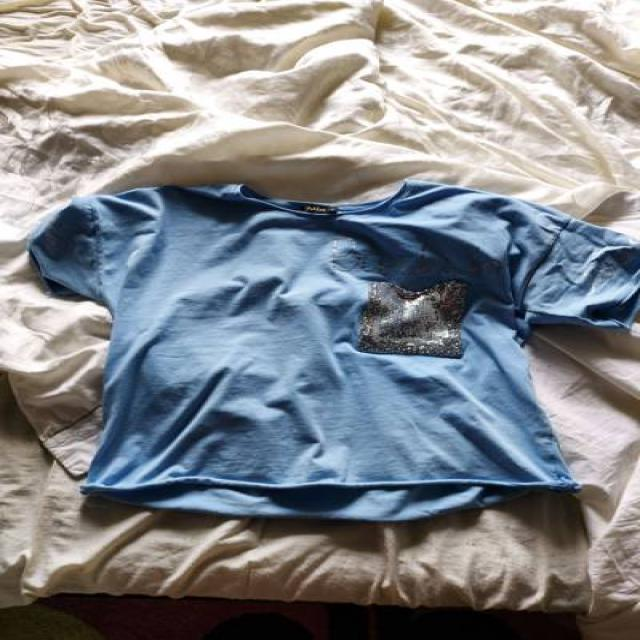Clothes -Biodegradable-: (23, 182, 640, 529)
